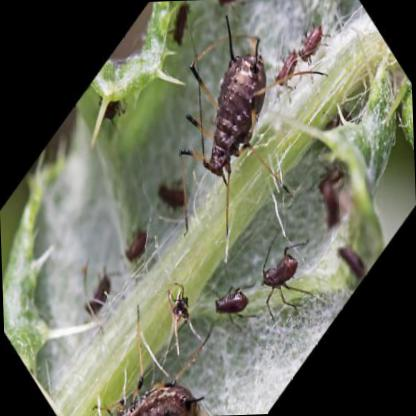uroleucon compositae: (180, 15, 266, 179)
